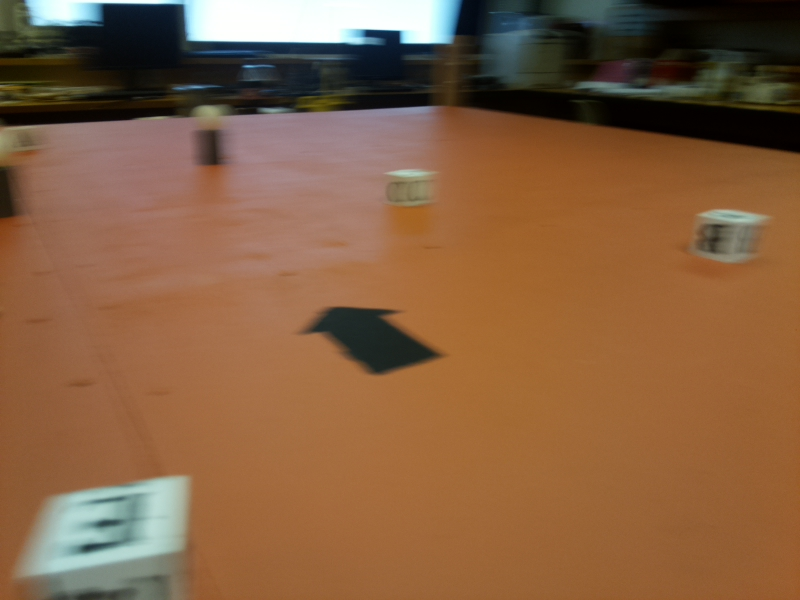blockB: (693, 205, 768, 264)
blockC: (384, 167, 433, 212)
blockE: (39, 473, 193, 600)
obstacle: (193, 103, 228, 163)
start: (307, 300, 441, 377)
